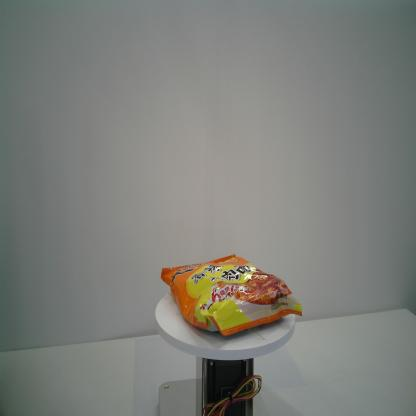Instant Noodles: (160, 253, 304, 338)
